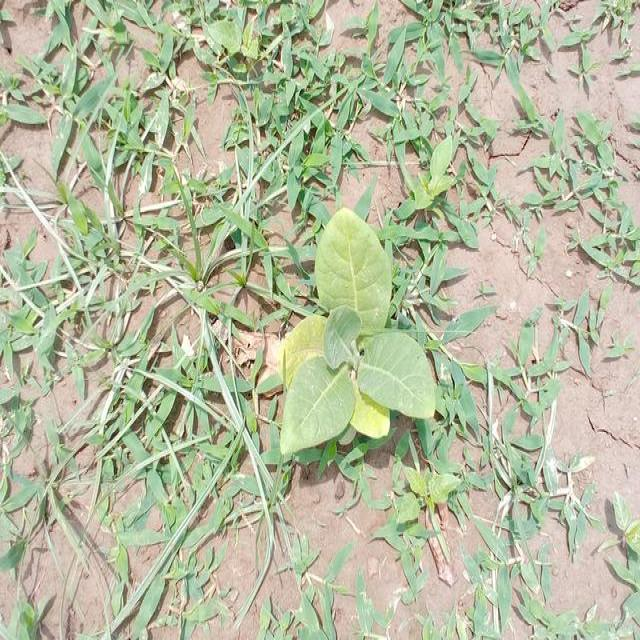crop: (279, 212, 436, 469)
